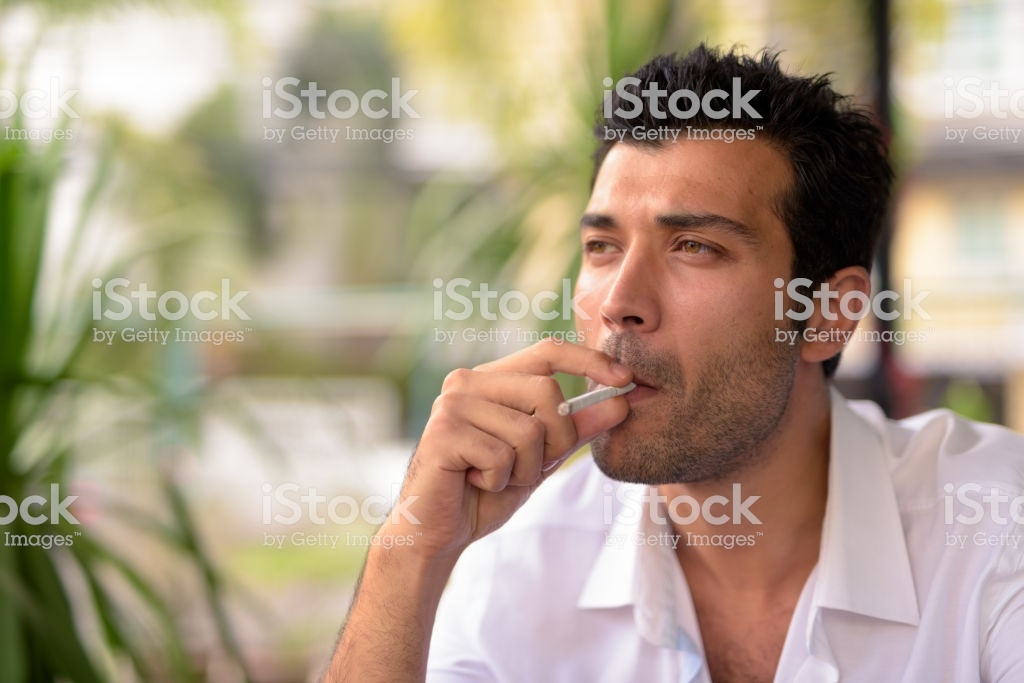sigaretta: (561, 374, 643, 415)
